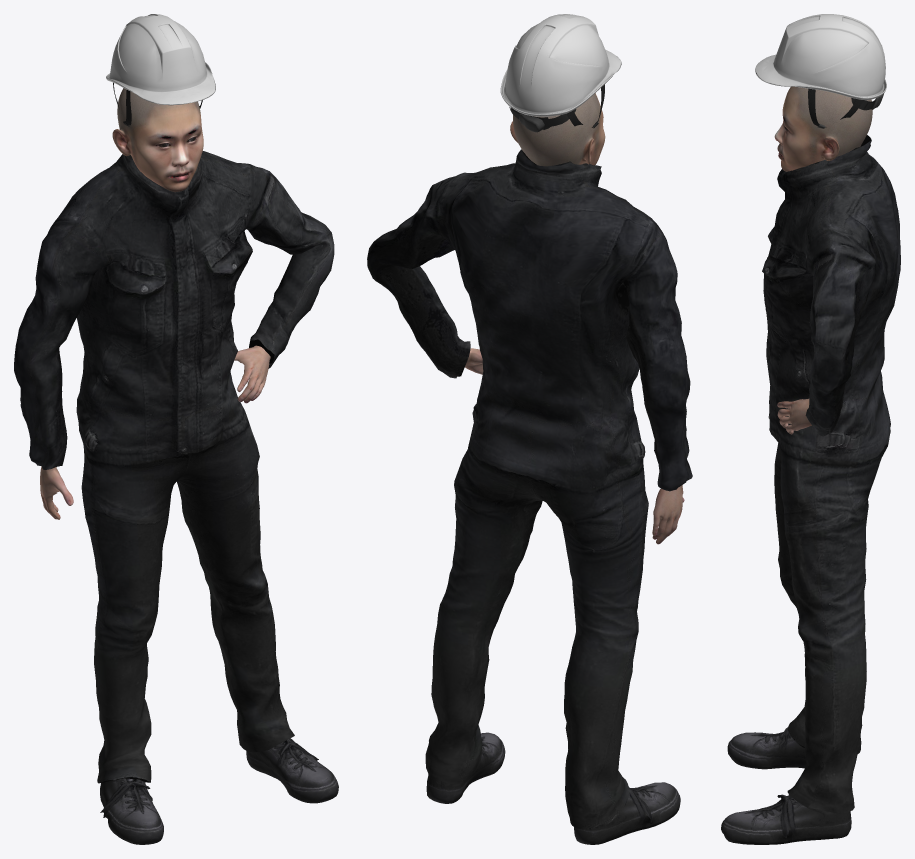
File: Worker.glb
3 renders of one model, left to right at view 1: azimuth 30°, elevation 25°; view 2: azimuth 150°, elevation 25°; view 3: azimuth 270°, elevation 25°, orthographic. The views are drawn at different scales.
Visible parts, largest first — view 1: Body, Helmet, Boots, Head, Hand; view 2: Body, Helmet, Boots, Head, Hand; view 3: Body, Helmet, Boots, Head, Hand.
Boxes of the visible parts, <box> form: Body: <box>14,151,334,783</box>; Helmet: <box>106,14,215,126</box>; Boots: <box>100,738,338,844</box>; Head: <box>112,88,203,192</box>; Hand: <box>40,345,270,519</box>; Body: <box>367,149,692,829</box>; Helmet: <box>500,14,621,132</box>; Boots: <box>426,732,680,844</box>; Head: <box>510,93,605,166</box>; Hand: <box>465,348,684,544</box>; Body: <box>762,135,900,813</box>; Helmet: <box>755,14,886,128</box>; Boots: <box>721,727,851,844</box>; Head: <box>774,86,872,171</box>; Hand: <box>777,398,811,434</box>.
Bounding box in the file's own units: 0.7917 × 1.89 × 0.4015.
Materials: 5 (5 with a texture image).
